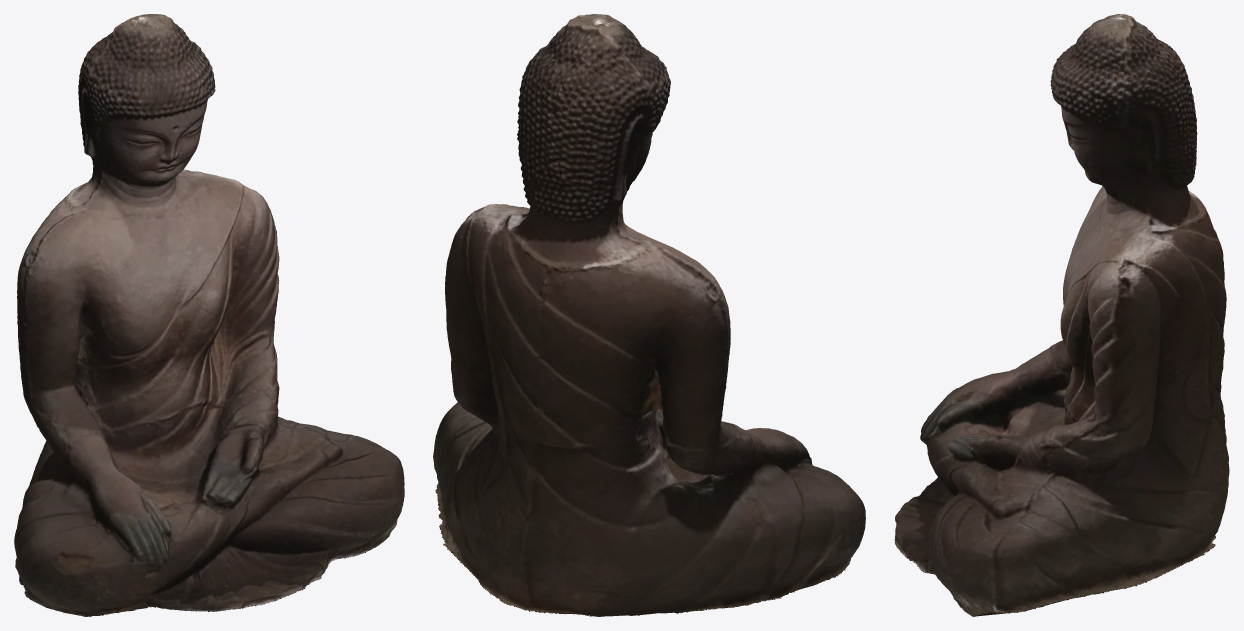
File: preview.glb
3 renders of one model, left to right at view 1: azimuth 30°, elevation 25°; view 2: azimuth 150°, elevation 25°; view 3: azimuth 270°, elevation 25°, orthographic. The views are drawn at different scales.
Visible parts, largest first — view 1: Object_2; view 2: Object_2; view 3: Object_2.
Boxes of the visible parts, x1,y1,x2,y2 form: Object_2: (14, 14, 404, 616); Object_2: (433, 14, 865, 616); Object_2: (894, 14, 1229, 616).
Size of the model in its own units: 6.66 by 8.73 by 5.13.
Materials: 1 (1 with a texture image).
